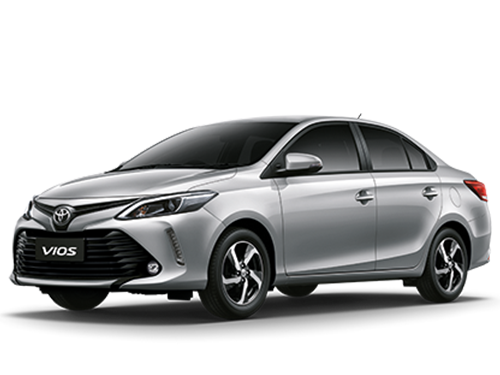sedan: (10, 112, 492, 321)
